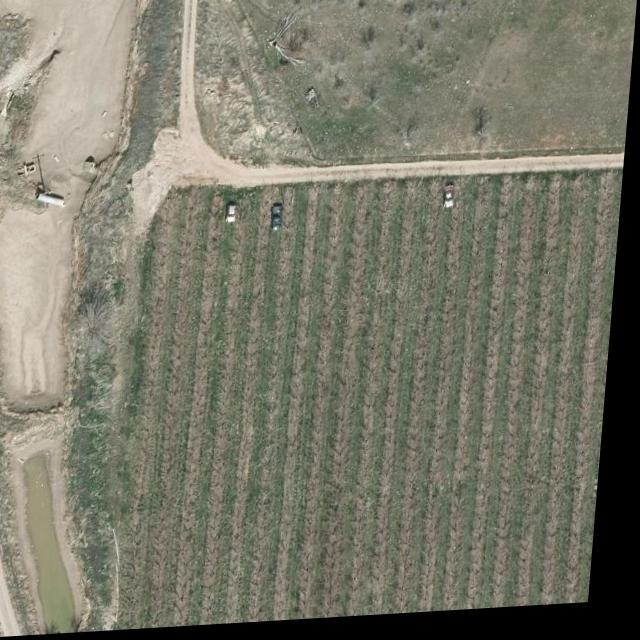vehicle: (274, 209, 287, 235), (446, 190, 460, 213), (228, 205, 243, 226)
